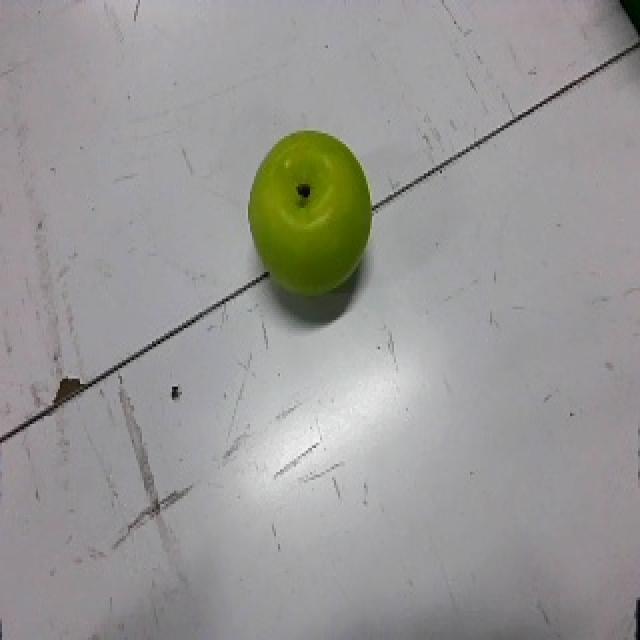apple: (248, 130, 372, 297)
